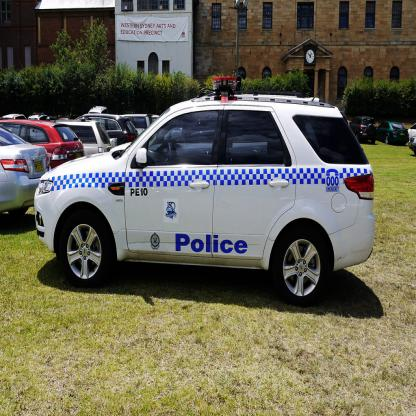Car: (0, 76, 416, 305)
